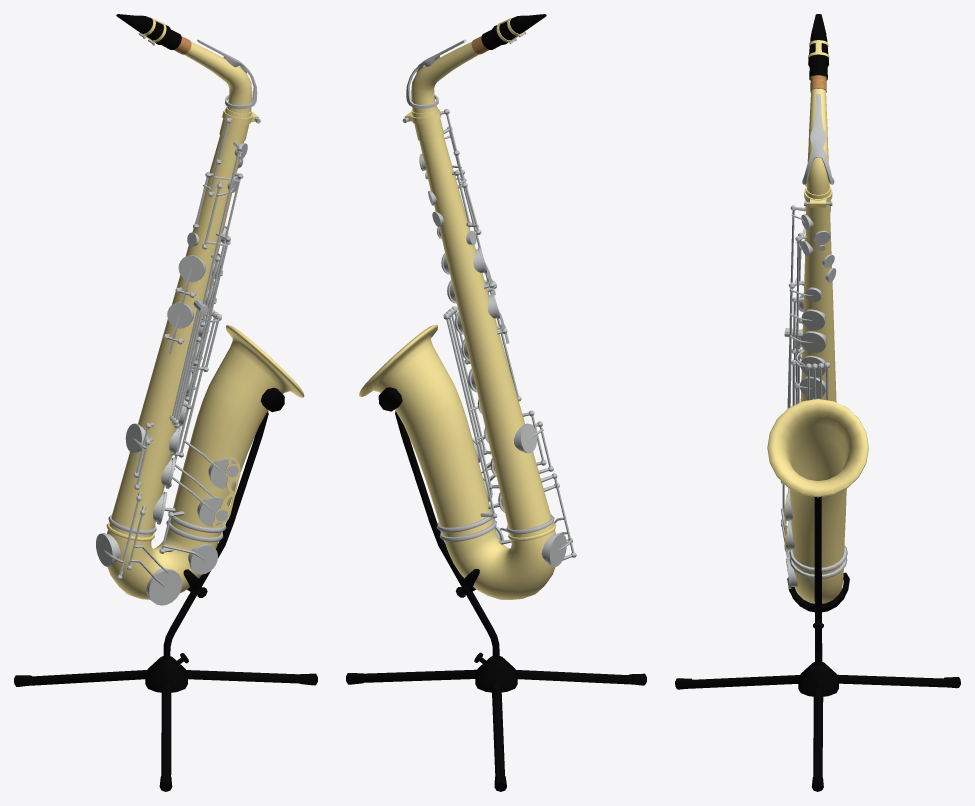
The model's file is saxophone.glb.
3 views of the same model, side by side, from view 1: azimuth 30°, elevation 25°; view 2: azimuth 150°, elevation 25°; view 3: azimuth 270°, elevation 25° (orthographic). The views are drawn at different scales.
Visible parts, largest first — view 1: Saxophone; view 2: Saxophone; view 3: Saxophone.
Boxes of the visible parts, x1=… form: Saxophone: x1=14, y1=14, x2=317, y2=791; Saxophone: x1=346, y1=14, x2=646, y2=791; Saxophone: x1=675, y1=14, x2=960, y2=791.
Bounding box in the file's own units: 39.62 × 118 × 44.34.
Materials: 1 (1 with a texture image).
